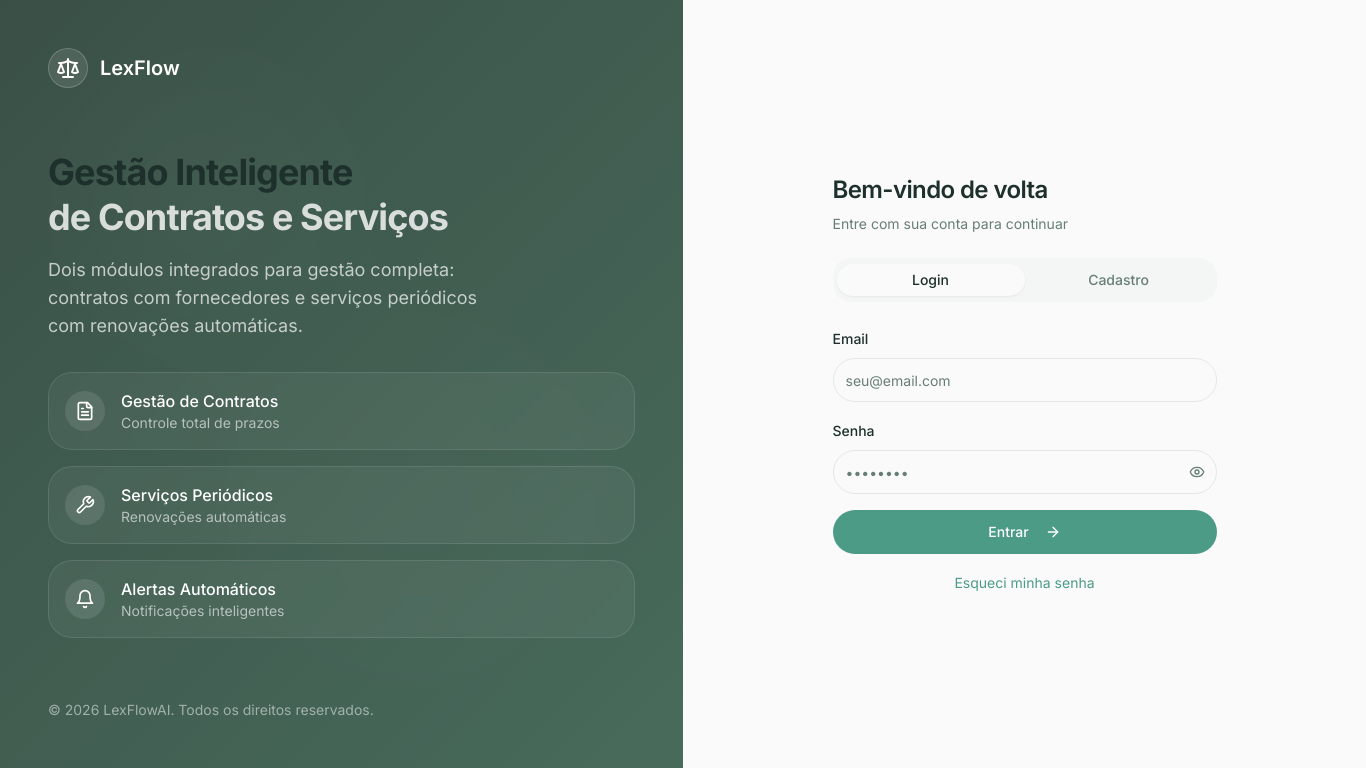
Login Form Validation › Password Validation - Signup › displays password requirement hint for signup
# Switch to signup tab
Click the tab "Cadastro" at (1118, 280), box [1024, 264, 1212, 296]
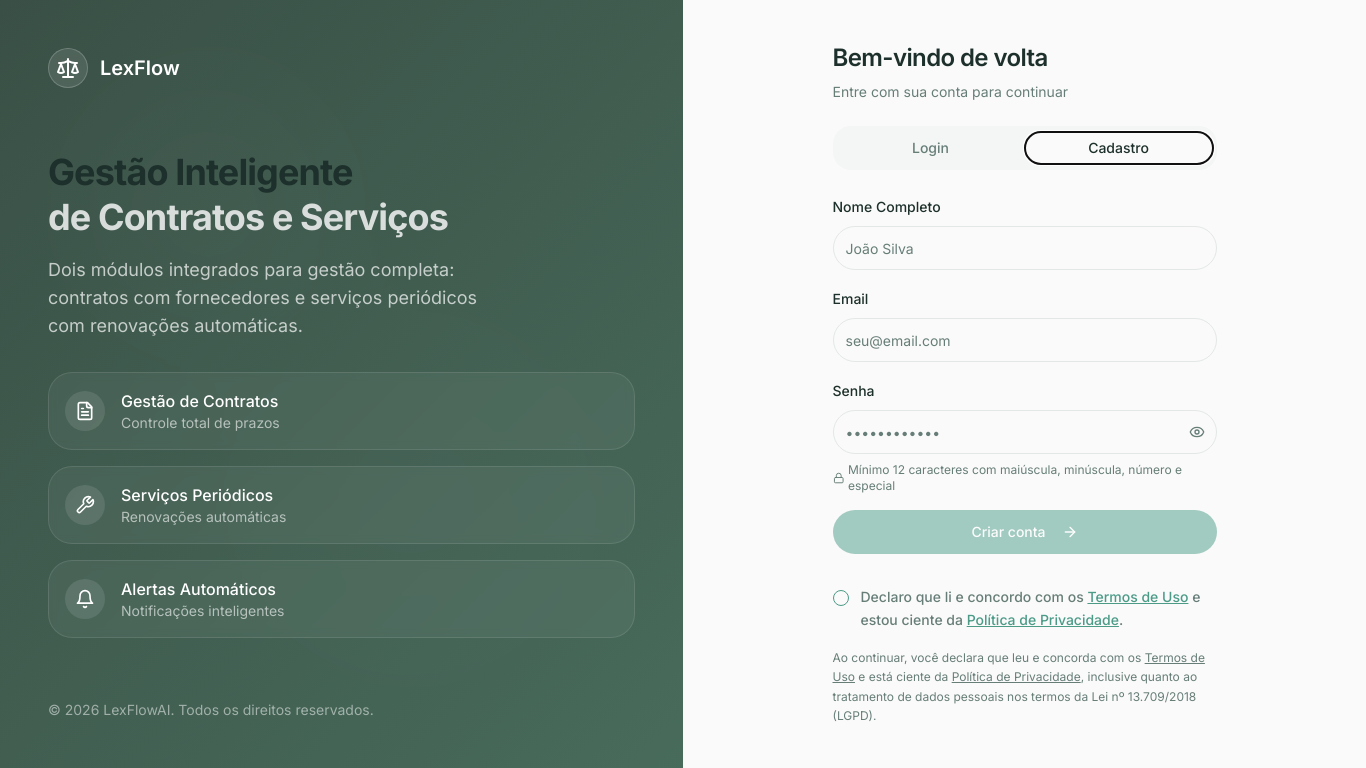
Expected: the text "Mínimo 12 caracteres" is shown, [848, 462, 1182, 493]
